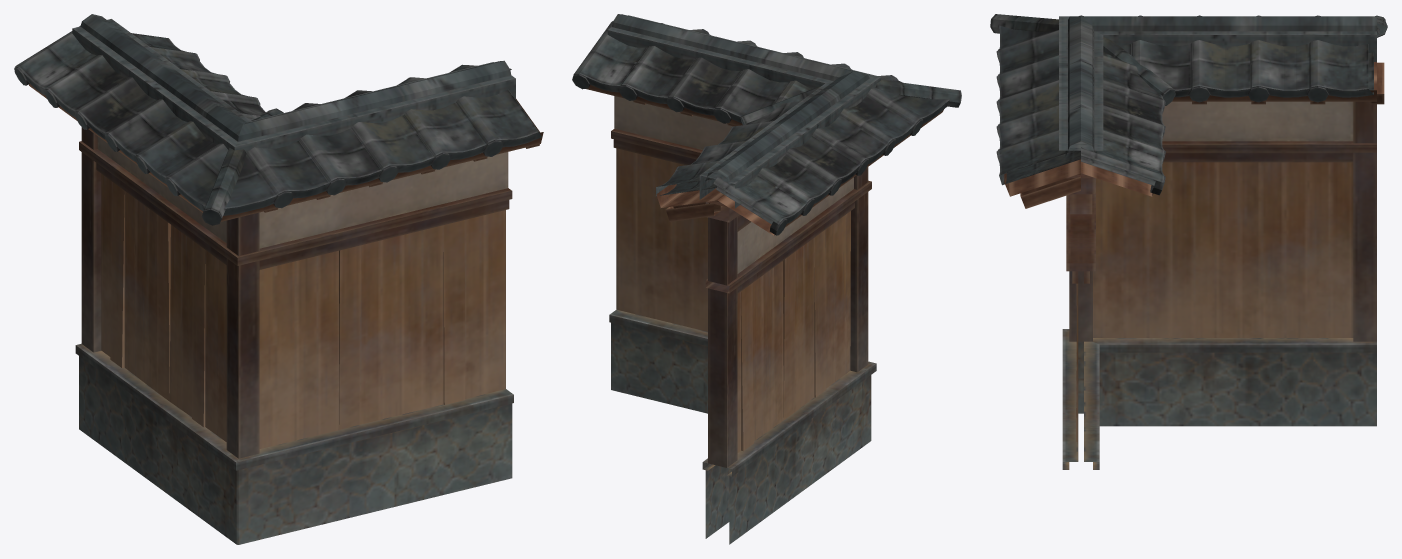
The model's file is Wall_08c.fbx.
The picture shows the model from 3 angles, left to right: view 1: azimuth 30°, elevation 25°; view 2: azimuth 150°, elevation 25°; view 3: azimuth 270°, elevation 25°; orthographic projection. The views are drawn at different scales.
Visible parts, largest first — view 1: SM_cmn_build_Wall_08c.mo; view 2: SM_cmn_build_Wall_08c.mo; view 3: SM_cmn_build_Wall_08c.mo.
Part boxes in pixels (x1,y1,x2,y2): SM_cmn_build_Wall_08c.mo: (14, 14, 543, 544); SM_cmn_build_Wall_08c.mo: (572, 14, 961, 544); SM_cmn_build_Wall_08c.mo: (990, 14, 1387, 469).
Bounding box in the file's own units: 269 × 301 × 269.
Materials: 2 (2 with a texture image).
